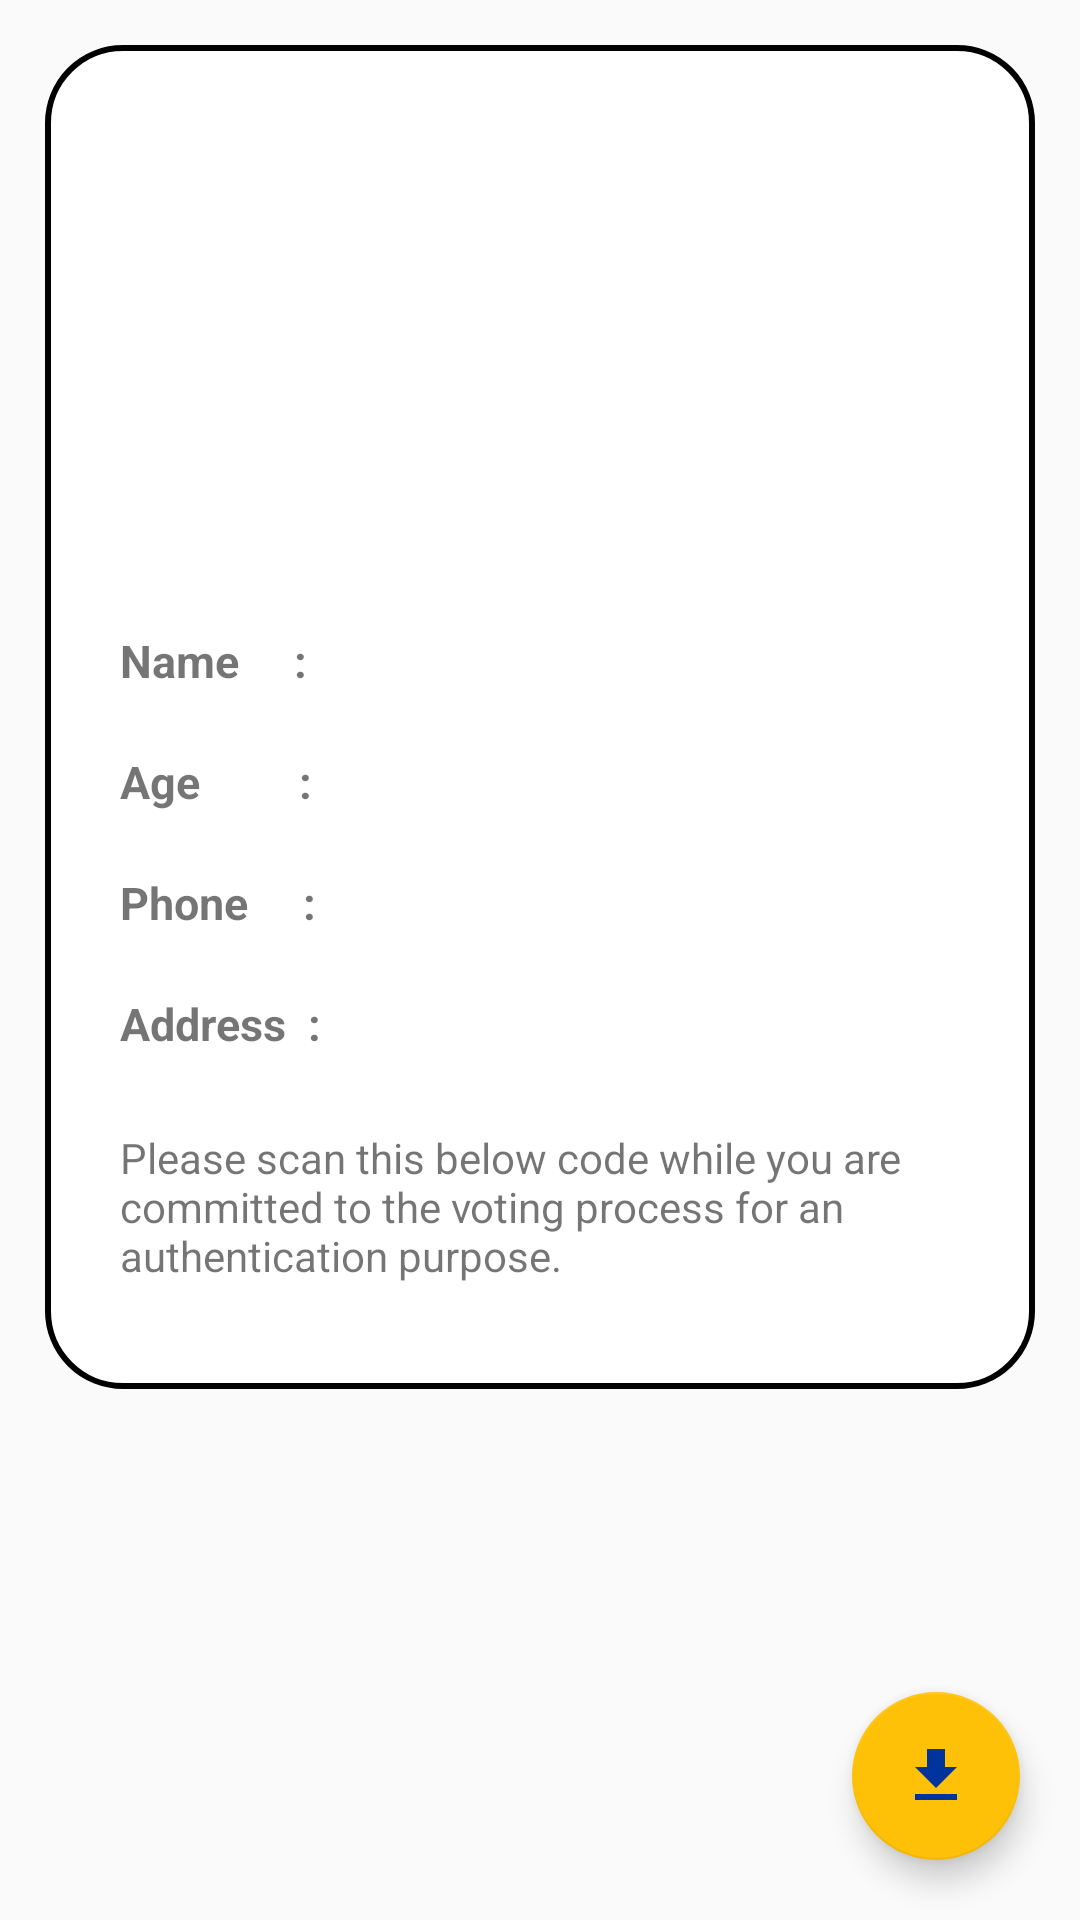

Icons on this 1080 x 1920 Android screen, each with its box as box(x1, y1, x2, y2):
file download: box(852, 1692, 1020, 1860)
